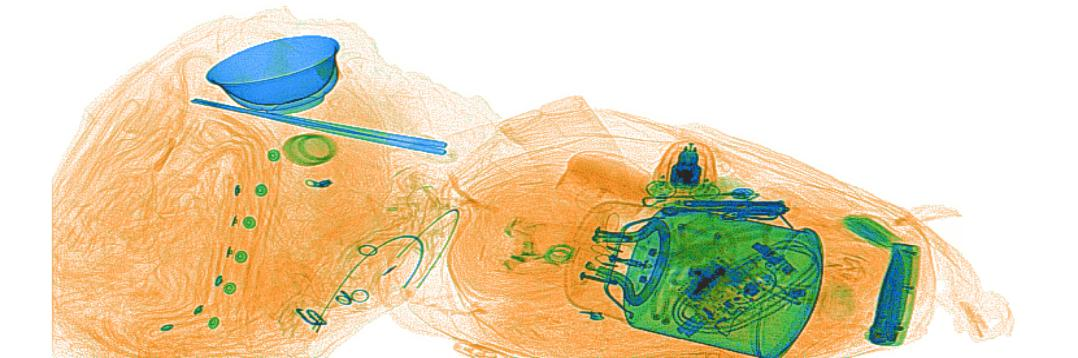battery: (675, 144, 699, 173)
knife: (863, 238, 920, 349)
